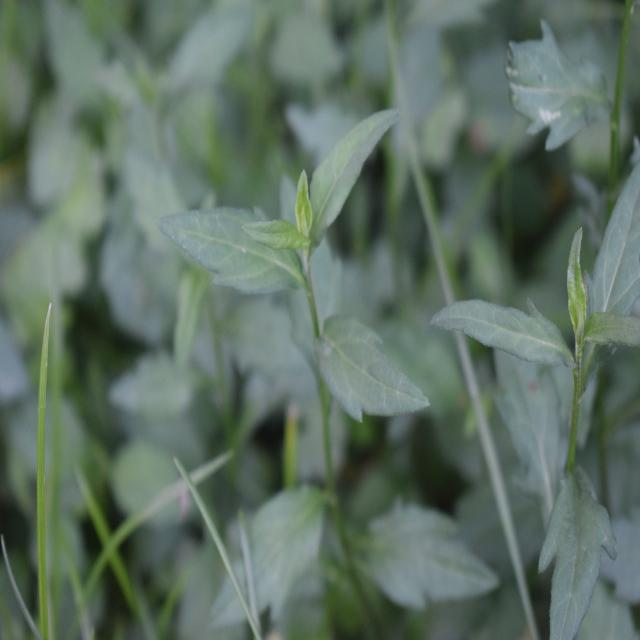Indian aster: (162, 82, 440, 578), (456, 146, 640, 625)
